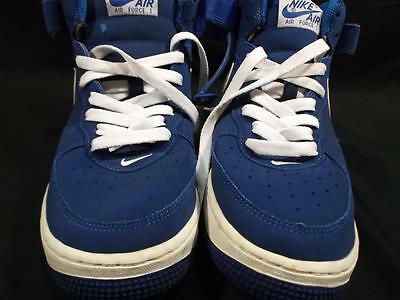Air Force One Blue: (207, 1, 379, 298), (37, 1, 205, 299)
